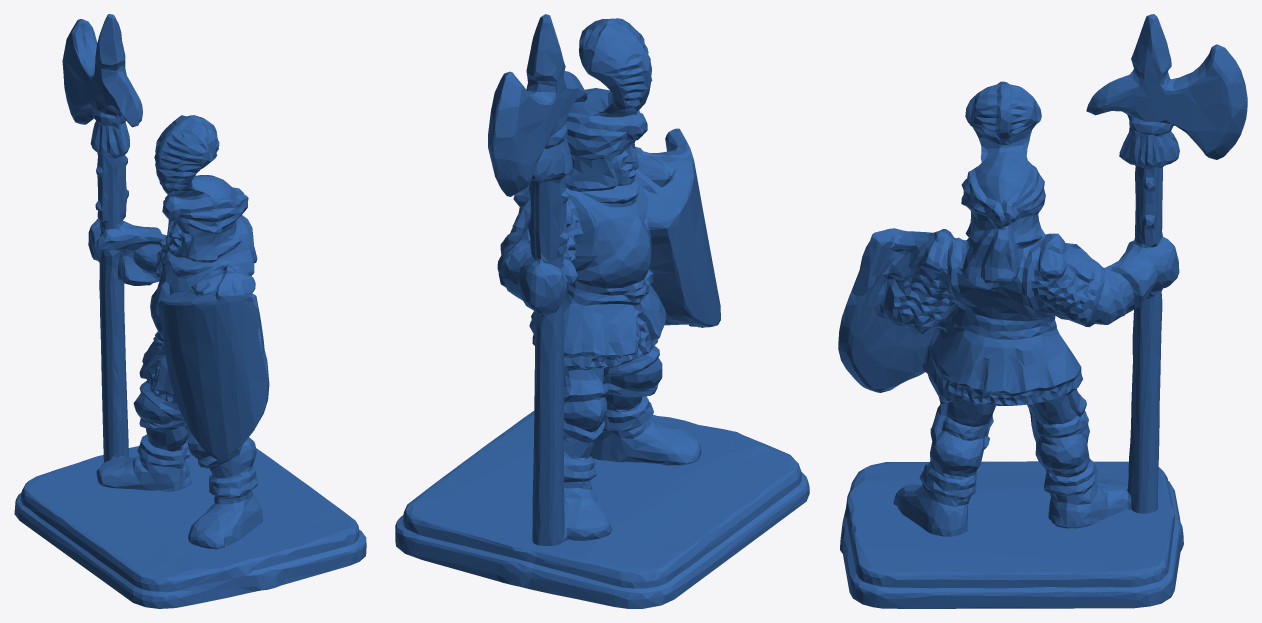
The model's file is men_at_arms.glb.
3 views of the same model, side by side, from view 1: azimuth 30°, elevation 25°; view 2: azimuth 150°, elevation 25°; view 3: azimuth 270°, elevation 25° (orthographic). The views are drawn at different scales.
Visible parts, largest first — view 1: Men-at-Arms_Imperial_Army; view 2: Men-at-Arms_Imperial_Army; view 3: Men-at-Arms_Imperial_Army.
Boxes of the visible parts, x1,y1,x2,y2 form: Men-at-Arms_Imperial_Army: (14, 14, 366, 608); Men-at-Arms_Imperial_Army: (395, 14, 809, 608); Men-at-Arms_Imperial_Army: (838, 14, 1247, 608).
Bounding box in the file's own units: 12.62 × 24.65 × 17.5.
